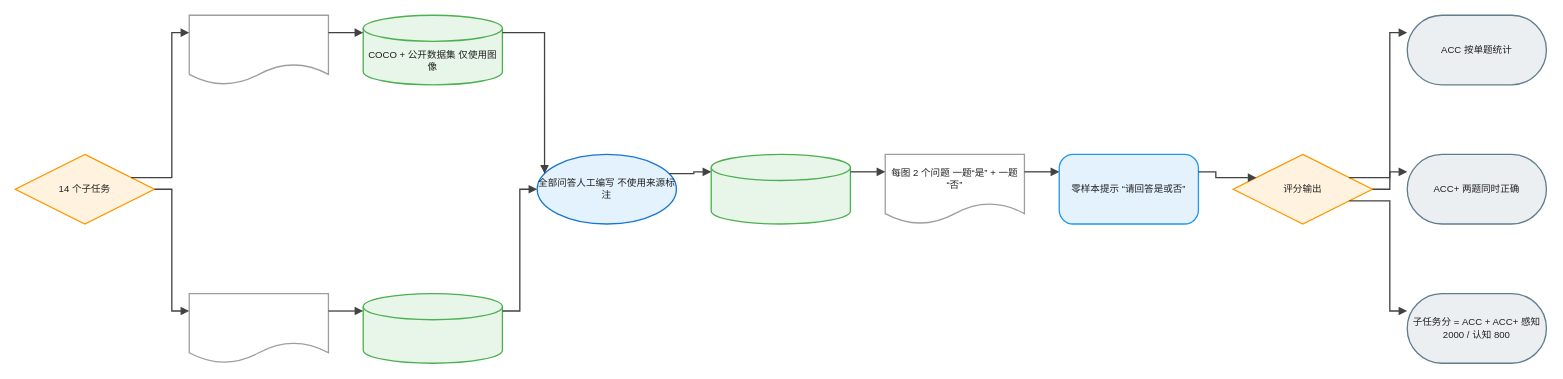
Image size: 1563x379. Some labels were removed from this diagram. Each missing label, with the centre of its shape:
"1,187 张图像 2,374 组问答" goes at pixel 780 188.
"人工拍摄 + 扩散模型生成图" goes at pixel 432 328.
"感知 10 项 识别 + OCR" goes at pixel 258 49.
"认知 4 项 推理 / 计算 / 文本 / 代码" goes at pixel 258 328.
